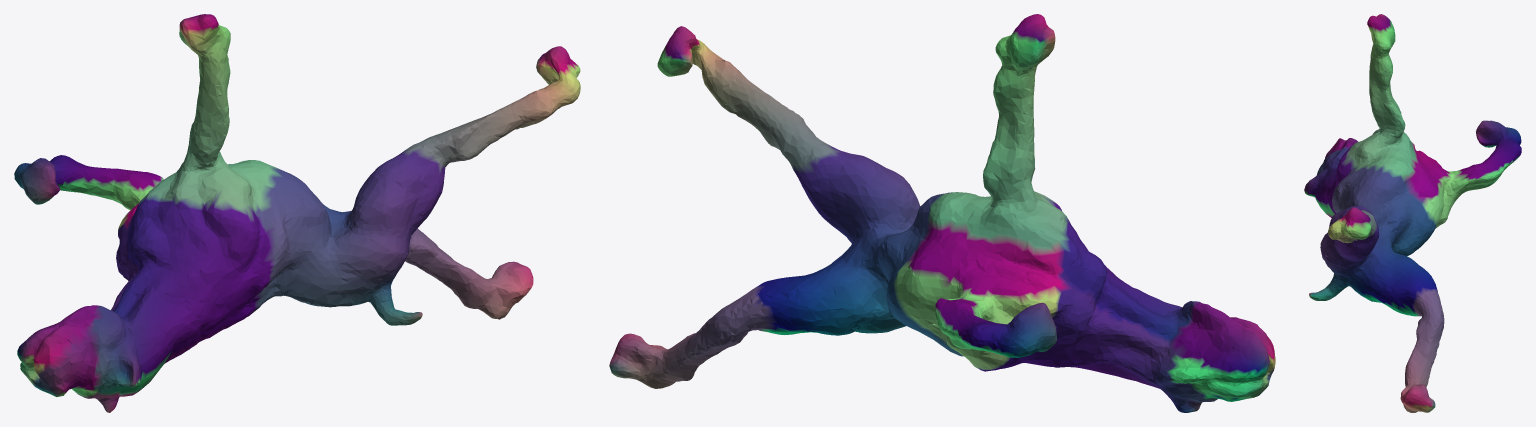
File: dog1-8.off.obj
3 views of the same model, side by side, from view 1: azimuth 30°, elevation 25°; view 2: azimuth 150°, elevation 25°; view 3: azimuth 270°, elevation 25° (orthographic). The views are drawn at different scales.
Size of the model in its own units: 1.57 by 1.08 by 0.7456.
